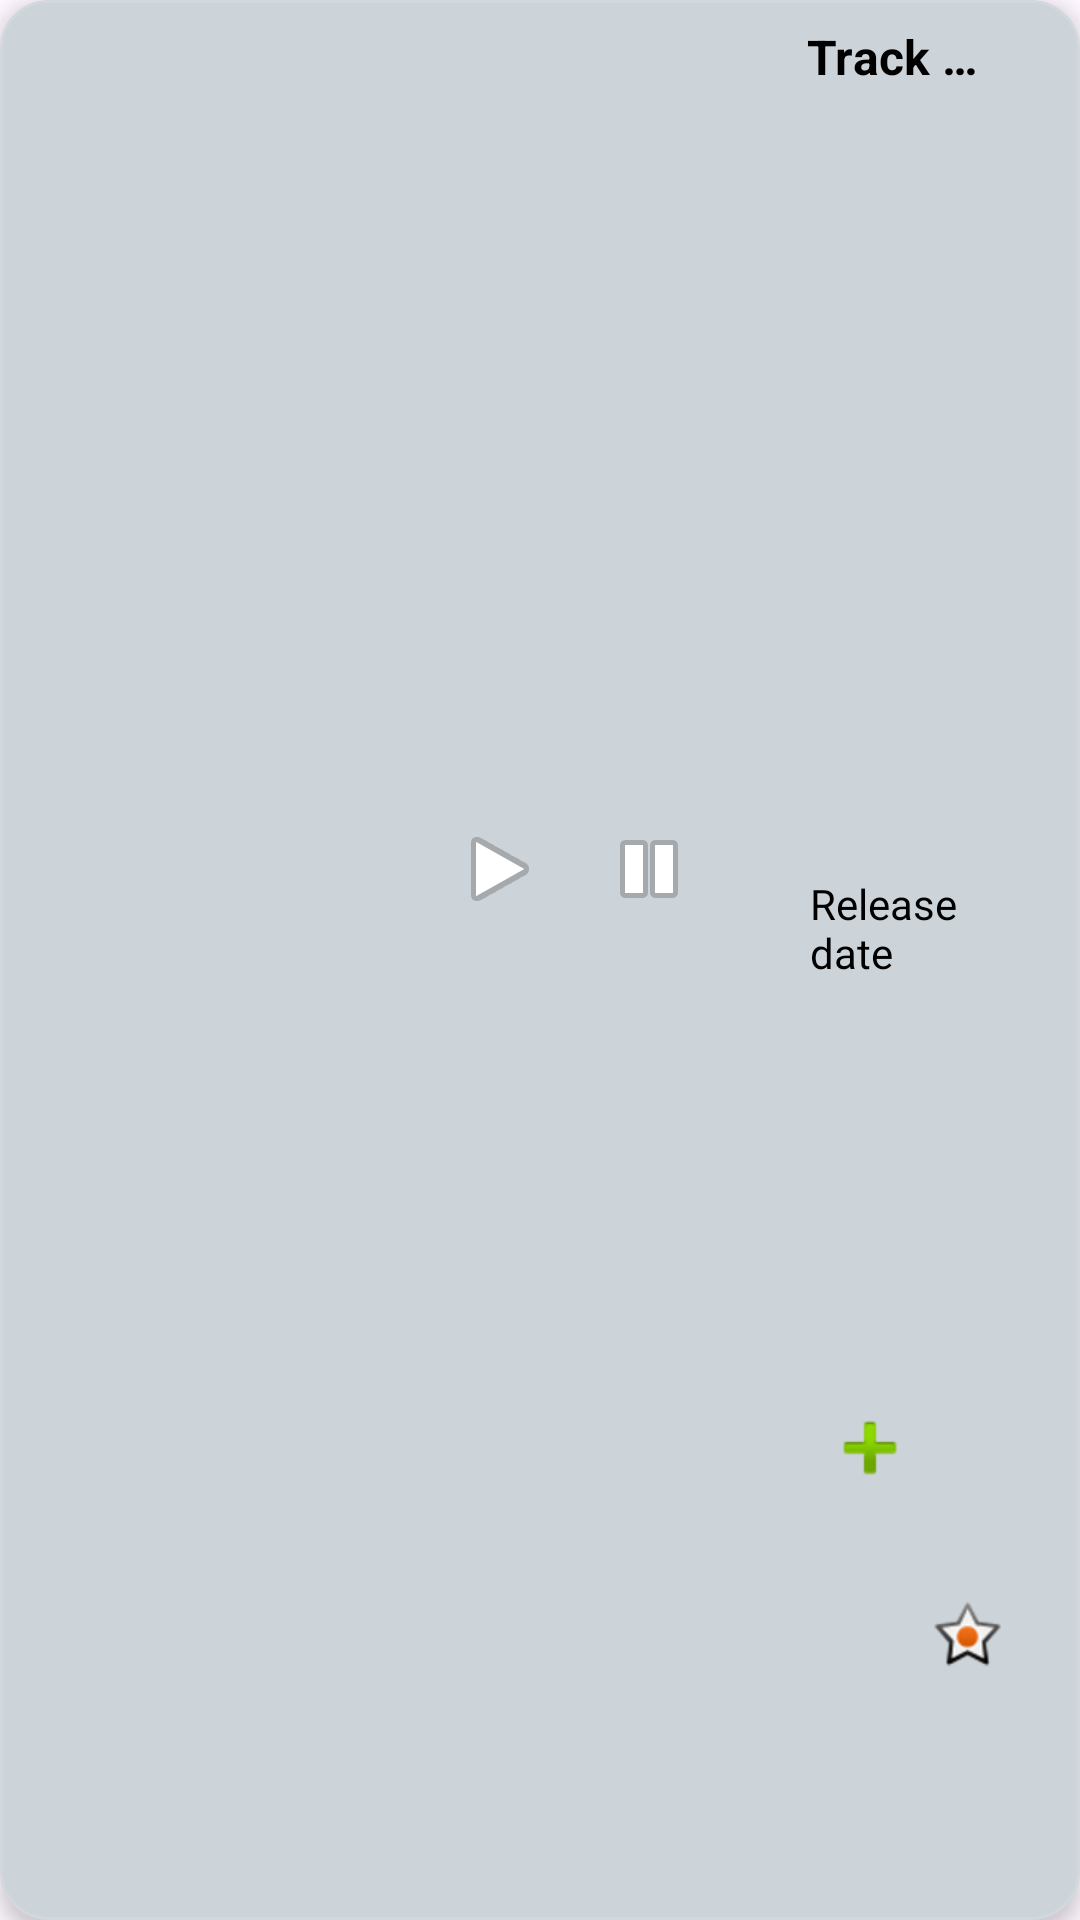

Where icons sit on this 1080*1920 app screen, as detection(x1, y1, x2, y2):
add: detection(843, 1421, 897, 1475)
pause: detection(620, 840, 678, 898)
play: detection(471, 837, 529, 901)
star on: detection(934, 1602, 1001, 1666)
